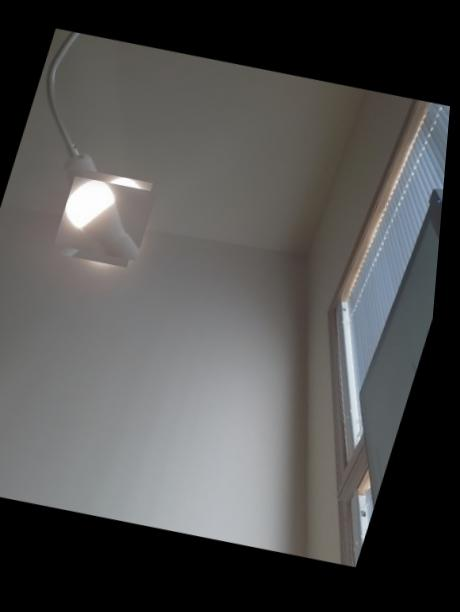TubeLight: (58, 171, 159, 267)
